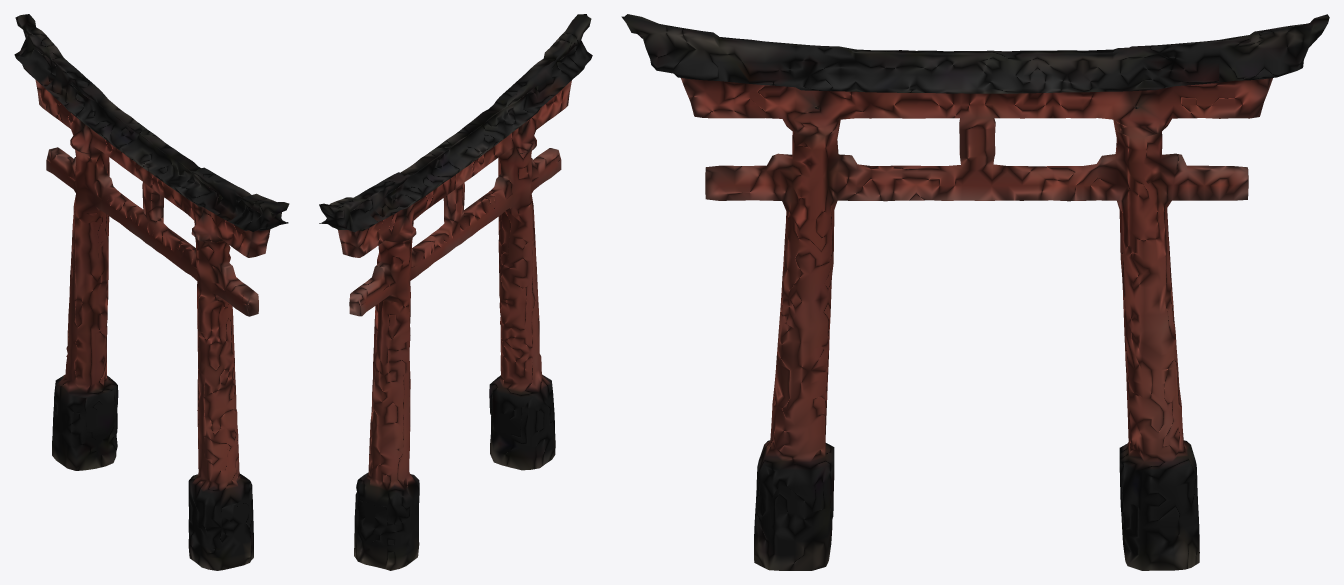
Rendered from torii.1.glb.
3 renders of one model, left to right at view 1: azimuth 30°, elevation 25°; view 2: azimuth 150°, elevation 25°; view 3: azimuth 270°, elevation 25°, orthographic. The views are drawn at different scales.
Parts seen in each view (by area): view 1: lod; view 2: lod; view 3: lod.
Boxes of the visible parts, x1=… form: lod: x1=14, y1=14, x2=289, y2=570; lod: x1=319, y1=14, x2=592, y2=570; lod: x1=621, y1=14, x2=1329, y2=570.
Bounding box in the file's own units: 0.11 × 0.8383 × 0.9946.
